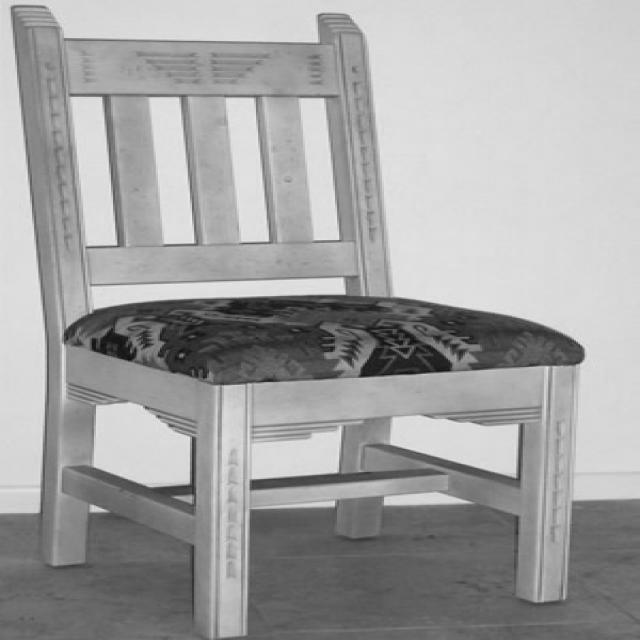chair: (4, 0, 585, 638)
